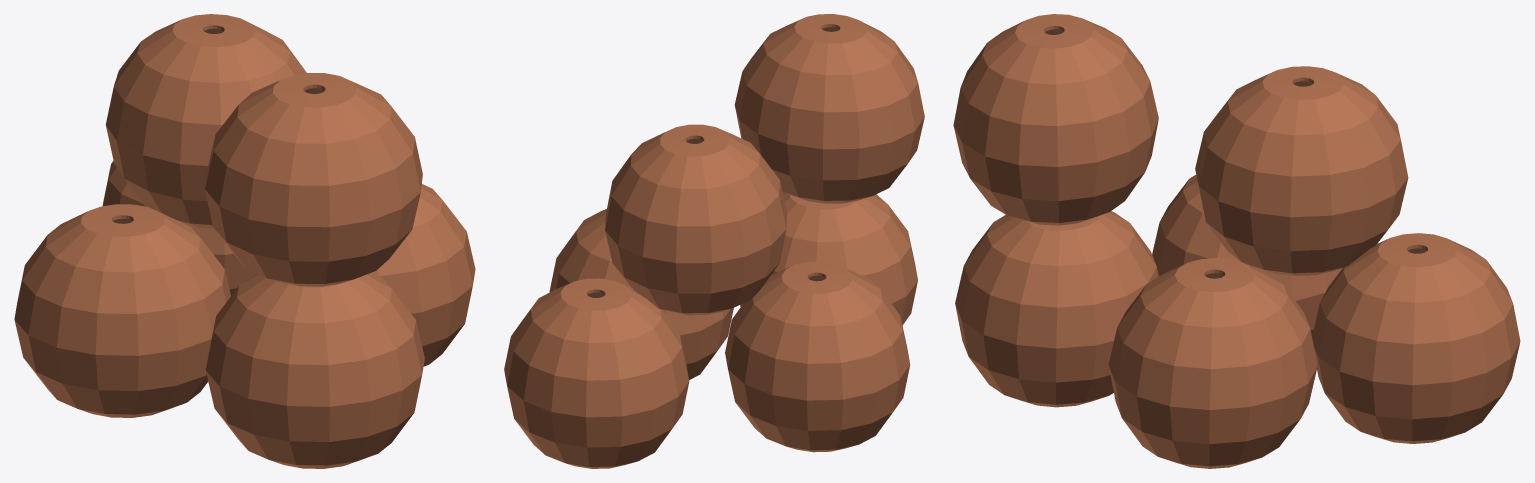
The model's file is coconut_pile3.glb.
3 views of the same model, side by side, from view 1: azimuth 30°, elevation 25°; view 2: azimuth 150°, elevation 25°; view 3: azimuth 270°, elevation 25° (orthographic). The views are drawn at different scales.
Parts seen in each view (by area): view 1: CoconutPile3-col; view 2: CoconutPile3-col; view 3: CoconutPile3-col.
Part boxes in pixels (x1=…): CoconutPile3-col: x1=14, y1=14, x2=475, y2=468; CoconutPile3-col: x1=504, y1=14, x2=924, y2=468; CoconutPile3-col: x1=953, y1=14, x2=1520, y2=468.
Size of the model in its own units: 1.11 by 0.9638 by 1.36.
1 material, 1 textured.
